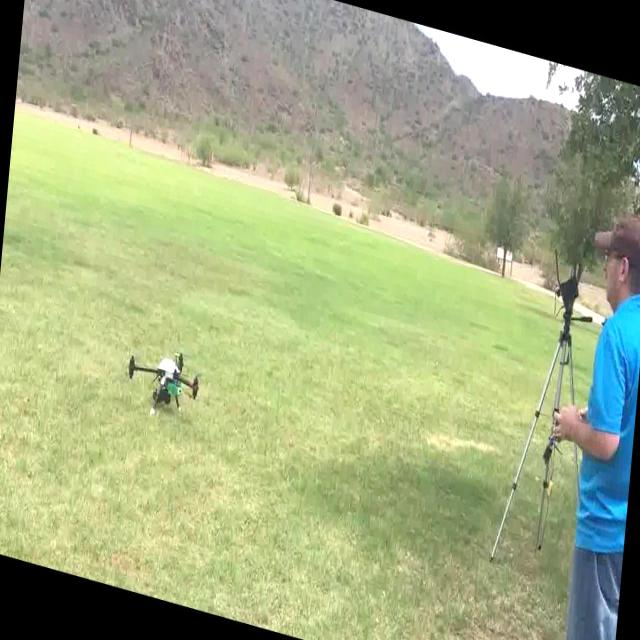drone: (124, 335, 202, 427)
